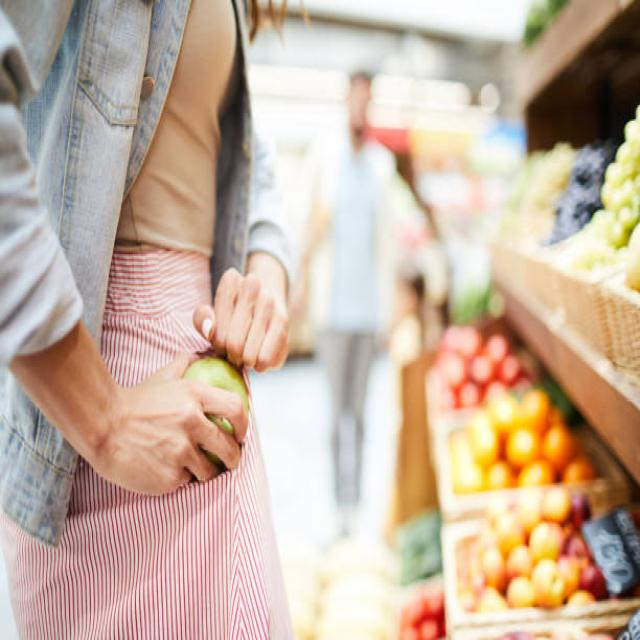article: (183, 356, 248, 411), (207, 414, 232, 433), (204, 450, 223, 464)
bags: (0, 413, 292, 638), (101, 253, 206, 381)
hands: (89, 351, 246, 493), (195, 254, 288, 367)
